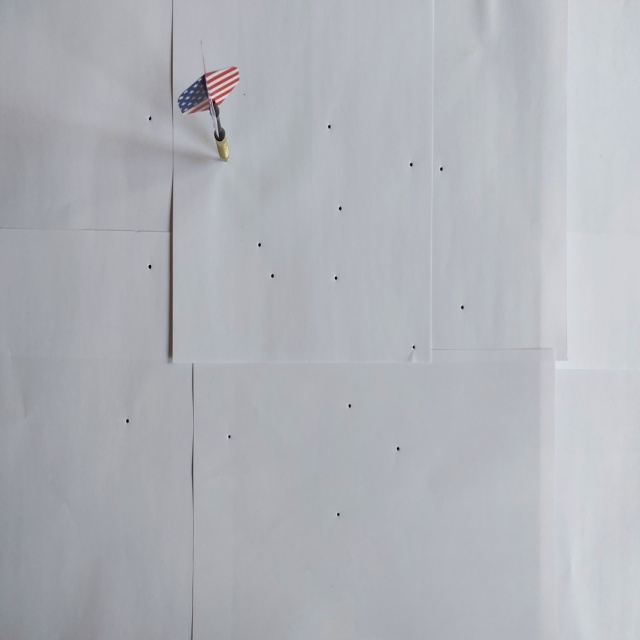Dart: (169, 38, 247, 171)
